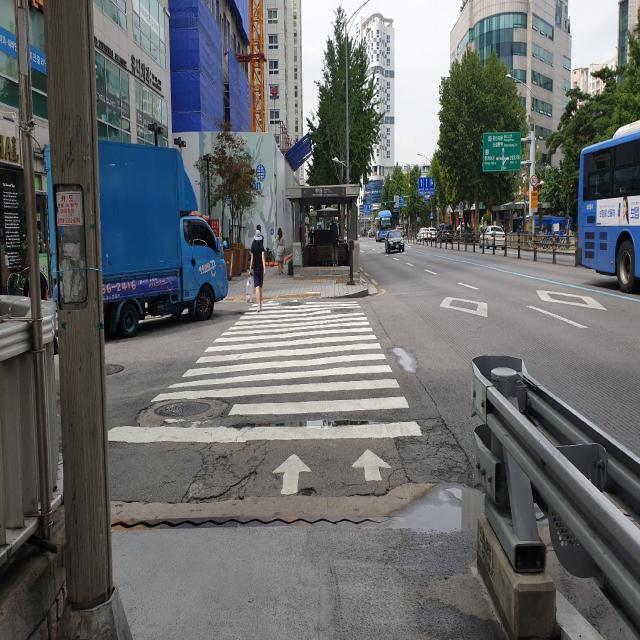횡단보도: (108, 299, 423, 497)
